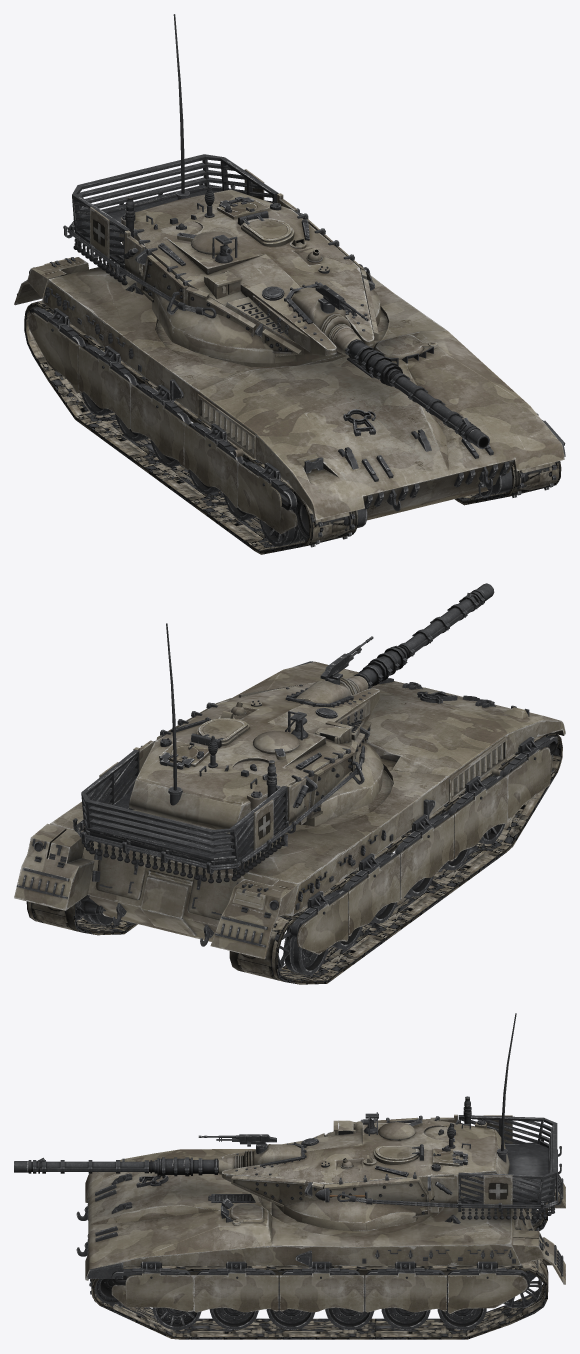
The model's file is Merkava_Tank.obj.
3 renders of one model, top to bottom at view 1: azimuth 30°, elevation 25°; view 2: azimuth 150°, elevation 25°; view 3: azimuth 270°, elevation 25°, orthographic. The views are drawn at different scales.
Visible parts, largest first — view 1: 11.0.525.0; view 2: 11.0.525.0; view 3: 11.0.525.0.
Boxes of the visible parts, x1,y1,x2,y2 form: 11.0.525.0: (14,14,565,554); 11.0.525.0: (14,583,565,984); 11.0.525.0: (14,1013,565,1339).
Bounding box in the file's own units: 5.52 × 6.85 × 12.24.
2 materials, 2 textured.
